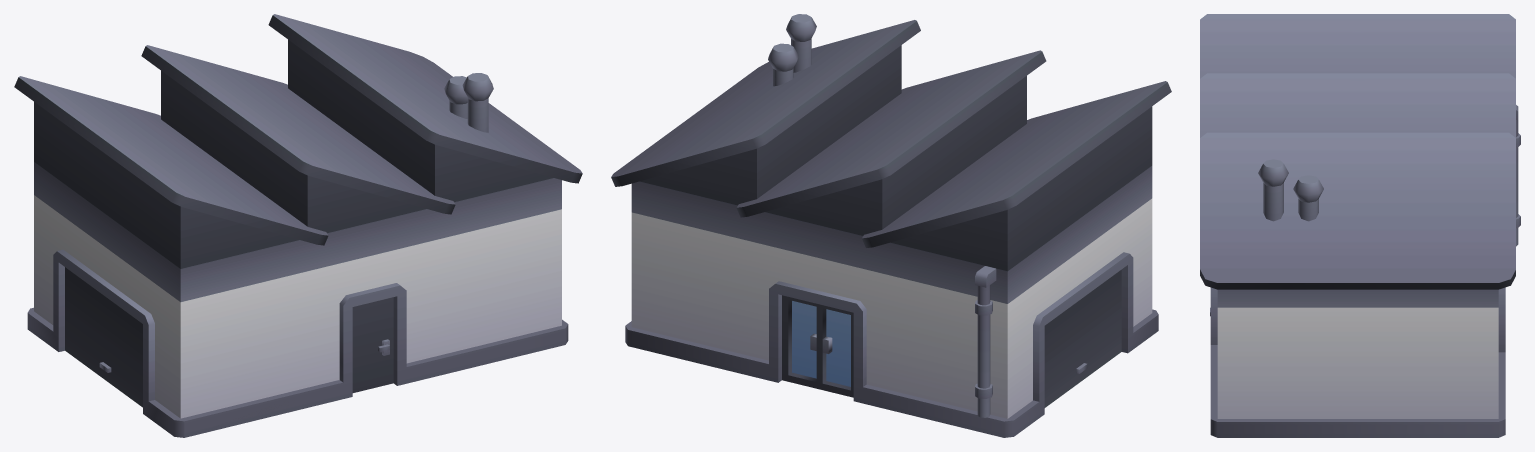
Rendered from building-k.glb.
3 views of the same model, side by side, from view 1: azimuth 30°, elevation 25°; view 2: azimuth 150°, elevation 25°; view 3: azimuth 270°, elevation 25° (orthographic). The views are drawn at different scales.
Visible parts, largest first — view 1: building-k; view 2: building-k; view 3: building-k.
Part boxes in pixels (bbox=[...]): building-k: bbox=[14, 14, 582, 437]; building-k: bbox=[611, 14, 1171, 437]; building-k: bbox=[1200, 14, 1520, 437].
Size of the model in its own units: 1.3 by 0.7727 by 0.9136.
Materials: 1 (1 with a texture image).
